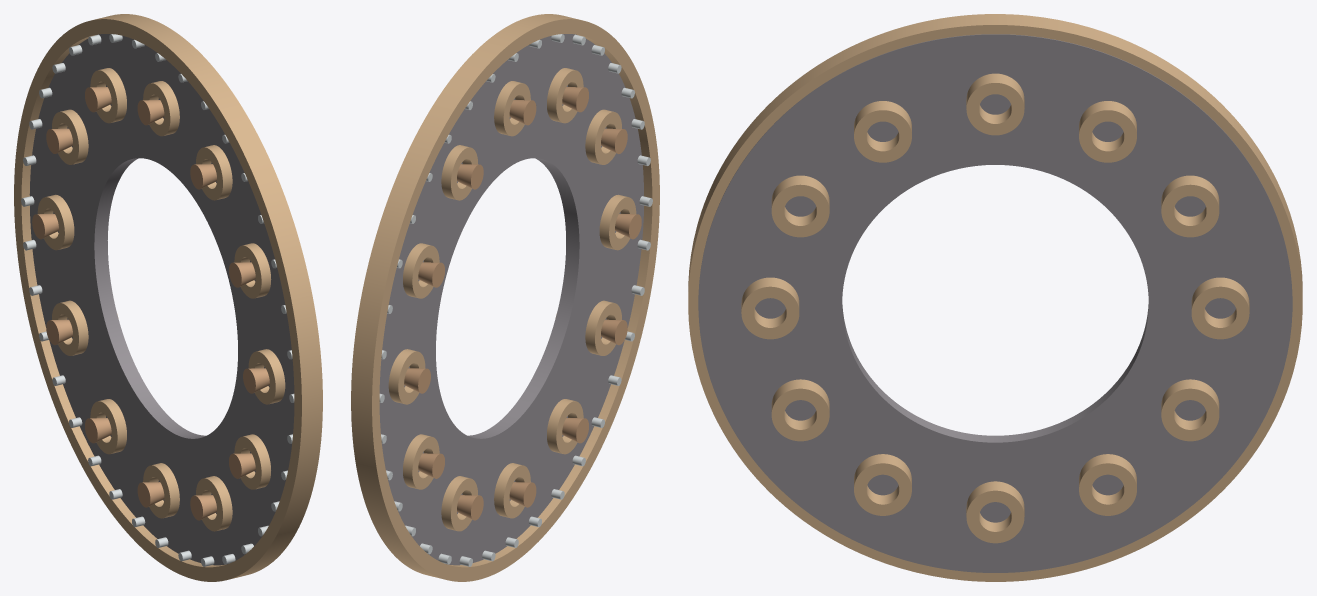
The model's file is combustor-dome.glb.
3 renders of one model, left to right at view 1: azimuth 30°, elevation 25°; view 2: azimuth 150°, elevation 25°; view 3: azimuth 270°, elevation 25°, orthographic. The views are drawn at different scales.
Parts seen in each view (by area): view 1: combustor-dome - heat_shell, combustor-dome - bronze, combustor-dome - fuel, combustor-dome - fastener; view 2: combustor-dome - heat_shell, combustor-dome - bronze, combustor-dome - fuel, combustor-dome - fastener; view 3: combustor-dome - heat_shell, combustor-dome - bronze.
Boxes of the visible parts, left/top/right/bottom form: combustor-dome - heat_shell: left=29, top=34, right=294, bottom=565; combustor-dome - bronze: left=14, top=14, right=322, bottom=581; combustor-dome - fuel: left=32, top=87, right=269, bottom=520; combustor-dome - fastener: left=21, top=34, right=294, bottom=566; combustor-dome - heat_shell: left=379, top=34, right=643, bottom=565; combustor-dome - bronze: left=351, top=14, right=659, bottom=581; combustor-dome - fuel: left=404, top=87, right=641, bottom=520; combustor-dome - fastener: left=379, top=34, right=652, bottom=566; combustor-dome - heat_shell: left=698, top=34, right=1292, bottom=572; combustor-dome - bronze: left=688, top=14, right=1302, bottom=581.
Size of the model in its own units: 0.168 by 1.57 by 1.57.
